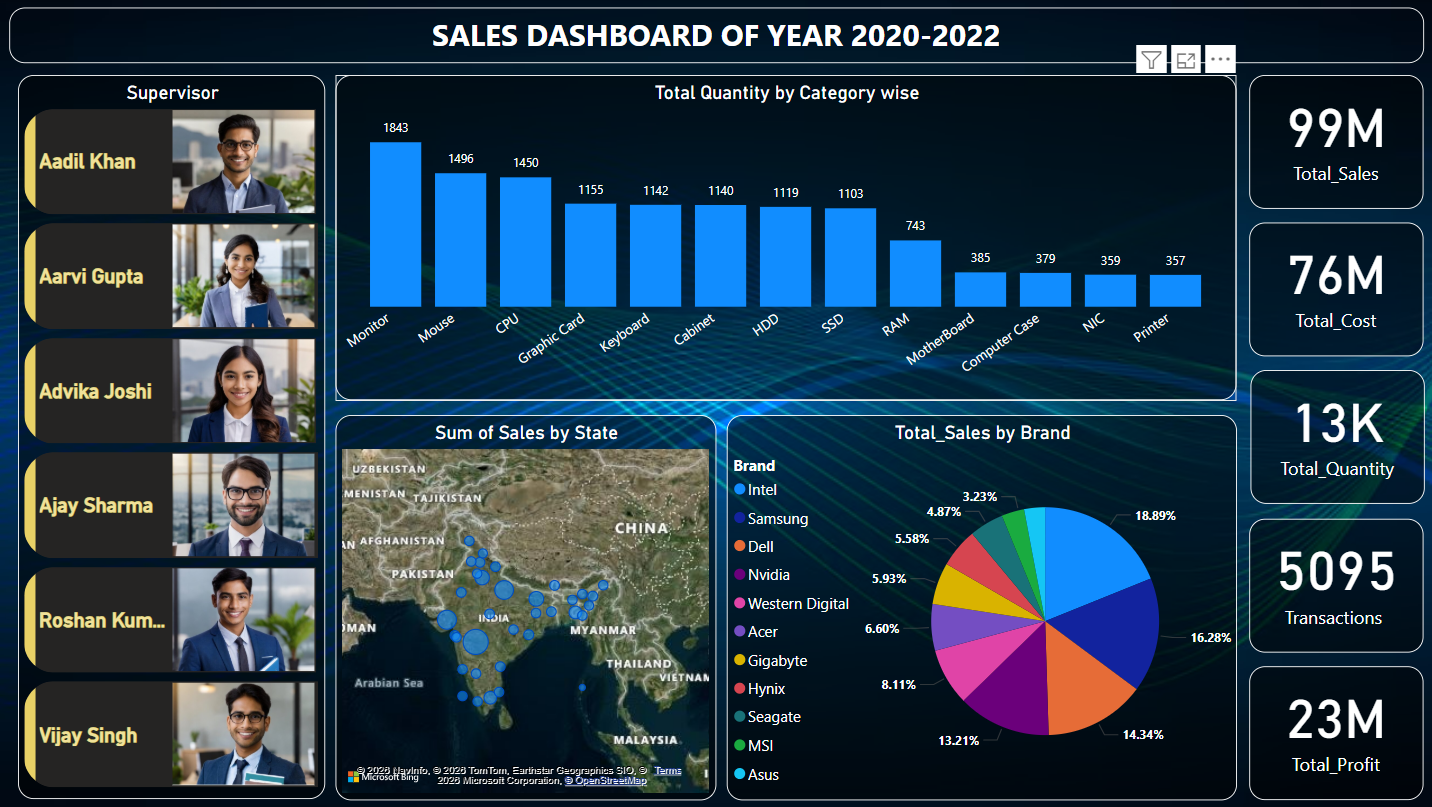

This screenshot's page, from the dashboard's own definition file:
{"tool":"powerbi","page":{"name":"Page 1","canvas":[1280,720],"ordinal":0},"visuals":[{"type":"textbox","box":[9.6,7,1259.7,49.4],"z":0},{"type":"card","fields":{"Values":["Sum(Sales_Data.Total_Sales)"]},"box":[1114.2,67,155.1,119.4],"z":1000},{"type":"card","fields":{"Values":["Sum(Sales_Data.Total_Cost)"]},"box":[1114.2,198,155.1,119.4],"z":2000},{"type":"card","fields":{"Values":["Sum(Sales_Data.Quantity)"]},"box":[1115.6,330,155.1,119.4],"z":3000},{"type":"card","fields":{"Values":["CountNonNull(Sales_Data.Order_Number)"]},"box":[1114.2,462,155.1,119.4],"z":4000},{"type":"card","fields":{"Values":["Sales_Data.Total_Profit"]},"box":[1114.2,593,155.1,119.4],"z":5000},{"type":"clusteredColumnChart","title":"Total Quantity by Category wise","fields":{"Y":["Sum(Sales_Data.Quantity)"],"Category":["Sales_Data.Category"]},"box":[300.5,67.2,802.7,289.5],"z":6000},{"type":"pieChart","fields":{"Y":["Sum(Sales_Data.Total_Sales)"],"Category":["Sales_Data.Brand"]},"box":[649.1,369.1,454.2,343.1],"z":7000},{"type":"map","fields":{"Size":["Sum(Sales_Data.Sales)"],"Category":["State_list.State"]},"box":[300.5,369.1,338.9,343.1],"z":8000},{"type":"advancedSlicerVisual","fields":{"Values":["Supervisor.Supervisor"]},"box":[9.6,75.5,274.4,644.9],"z":9000}]}

Visuals, with their boxes in screenshot pixels (x1, y1, x2, y2), scaled from the page's 1280x720 canvas onto the 1432x807 screenshot:
textbox: 11 8 1420 63
card - Sum(Sales_Data.Total_Sales): 1247 75 1420 209
card - Sum(Sales_Data.Total_Cost): 1247 222 1420 356
card - Sum(Sales_Data.Quantity): 1248 370 1422 504
card - CountNonNull(Sales_Data.Order_Number): 1247 518 1420 652
card - Sales_Data.Total_Profit: 1247 665 1420 798
"Total Quantity by Category wise" clusteredColumnChart: 336 75 1234 400
pieChart - Sum(Sales_Data.Total_Sales) x Sales_Data.Brand: 726 414 1234 798
map - Sum(Sales_Data.Sales) x State_list.State: 336 414 715 798
advancedSlicerVisual - Supervisor.Supervisor: 11 85 318 806
